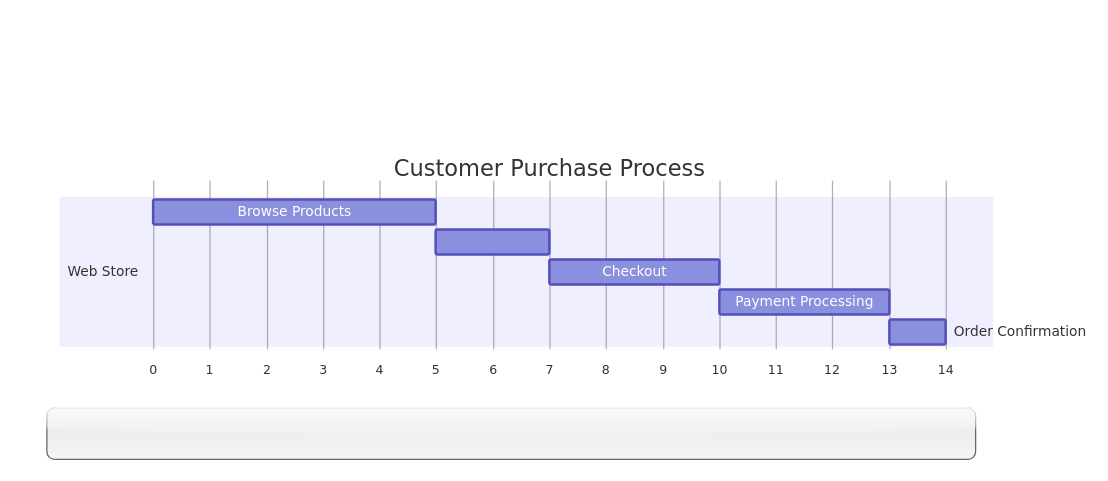
The diagram is 1108 pixels wide and 481 high, and some of its shapes have lost their labels. The shapes that lost their labels are listed below. From the top down, each one's centre as x and y in pixels, then its label:
(492,241): Add to Cart
(511,433): Prompt: A customer purchases a product from a web store
